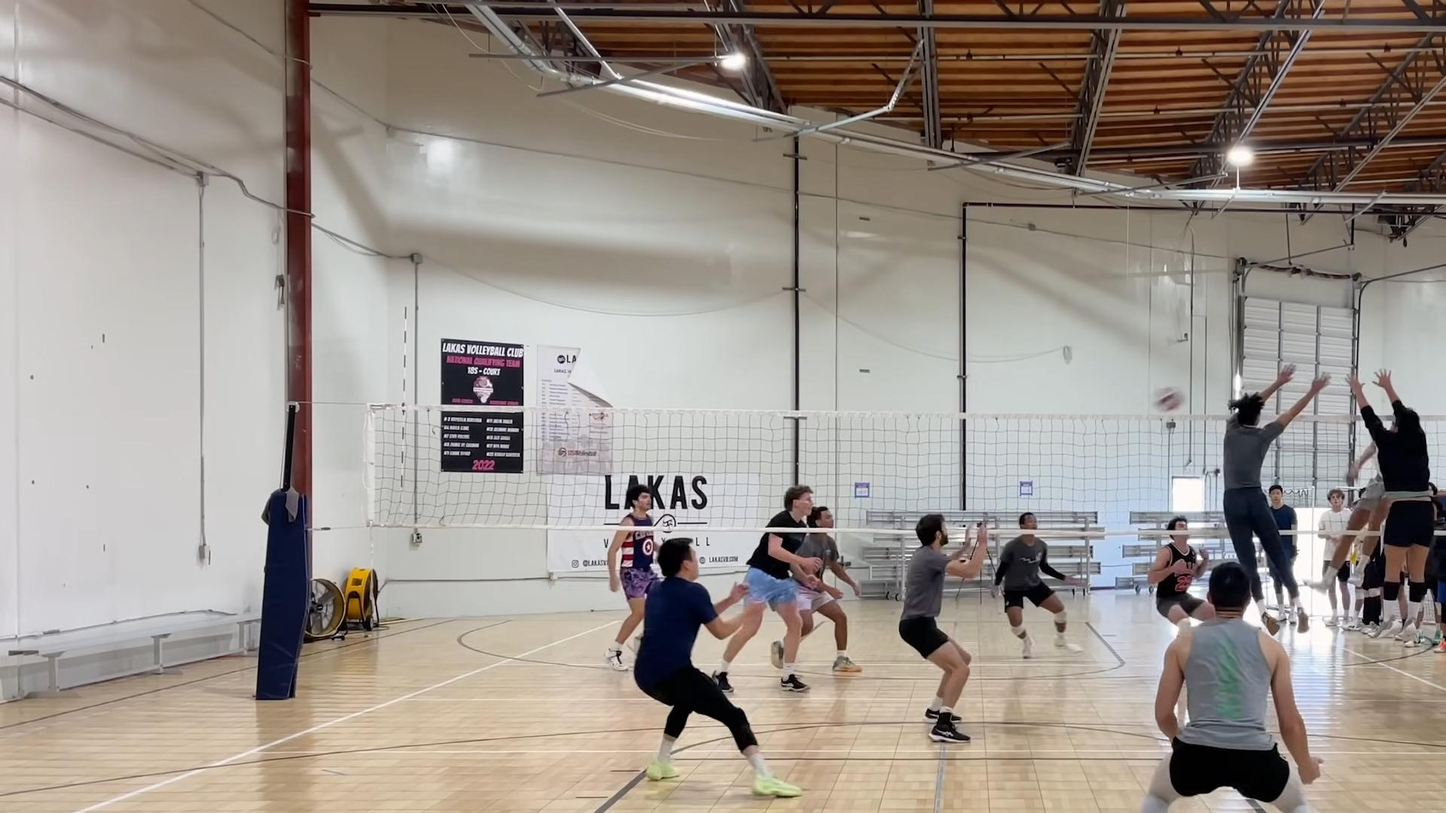Attack: (1331, 410, 1397, 589)
Block: (1213, 360, 1335, 633), (1342, 359, 1440, 640)
Player: (1140, 562, 1319, 812), (634, 538, 800, 796), (713, 486, 821, 691), (898, 514, 987, 742), (994, 513, 1080, 658), (791, 505, 862, 673), (606, 485, 657, 670), (1147, 516, 1213, 630), (1147, 516, 1213, 629)
ball: (1153, 381, 1182, 410)
